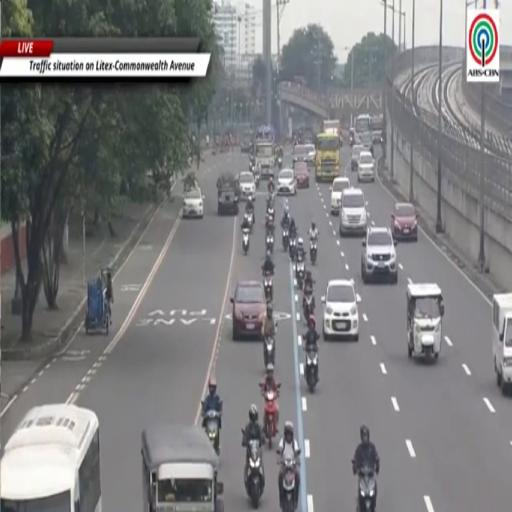bus: (0, 405, 101, 511), (354, 115, 372, 134)
car: (322, 280, 359, 341), (230, 281, 266, 340), (361, 227, 398, 283), (339, 187, 367, 236), (391, 203, 418, 241), (331, 176, 350, 215), (182, 187, 204, 218), (358, 151, 375, 182), (276, 169, 296, 195), (239, 172, 255, 200), (351, 143, 364, 171), (294, 163, 309, 187), (292, 144, 309, 164), (240, 132, 252, 154), (360, 133, 372, 152), (306, 143, 315, 166)
jeepney: (141, 423, 223, 511), (407, 283, 444, 359)
motorcycle: (260, 383, 280, 449), (245, 440, 263, 508), (281, 459, 297, 511), (357, 467, 375, 511), (204, 410, 220, 454), (305, 349, 318, 392), (264, 338, 275, 367), (303, 293, 315, 318), (296, 261, 305, 289), (264, 274, 273, 301), (288, 238, 297, 261), (244, 212, 254, 232), (310, 238, 317, 265), (243, 229, 250, 254), (267, 206, 275, 223), (266, 234, 273, 253), (282, 230, 288, 250), (254, 169, 260, 188), (268, 187, 275, 201), (277, 157, 282, 169)
tricycle: (85, 269, 111, 333)
truck: (492, 293, 511, 393), (314, 132, 340, 182), (217, 173, 239, 215), (255, 139, 275, 179), (323, 120, 342, 145), (323, 120, 339, 134)
